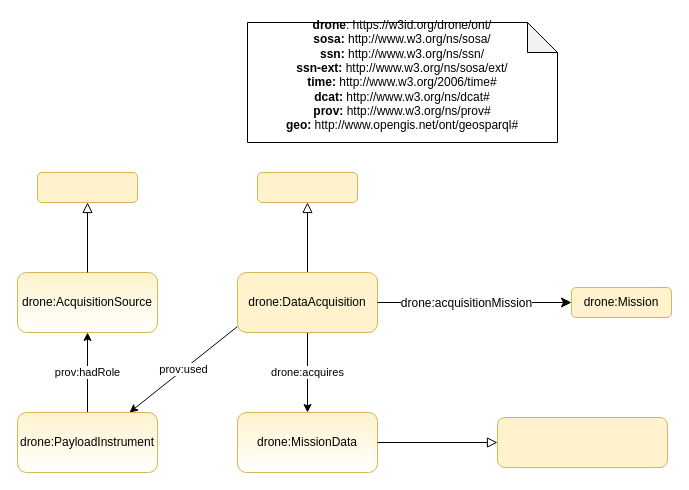
Image size: 689x490. Some labels were removed from this diagram. The centre of each missing label's shape, as x and y in pixels:
drone:Activity: the point at 307,187
prov:Collection: the point at 582,442
prov:Role: the point at 87,187
